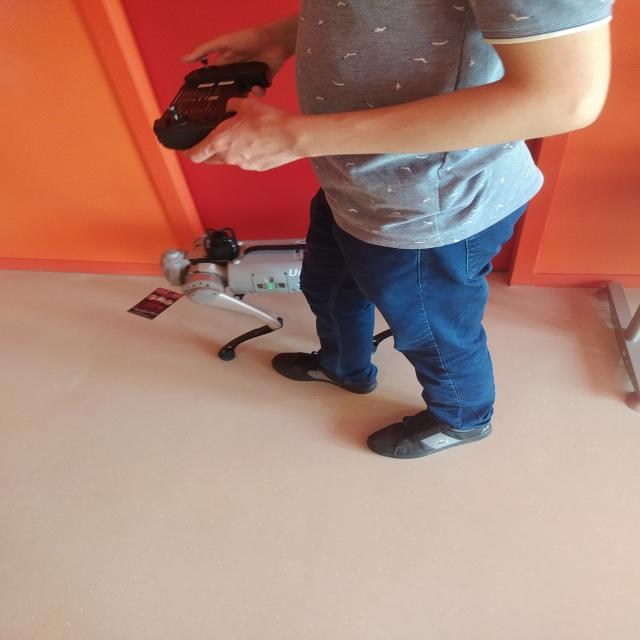unitree-go1-robot: (154, 221, 404, 357)
